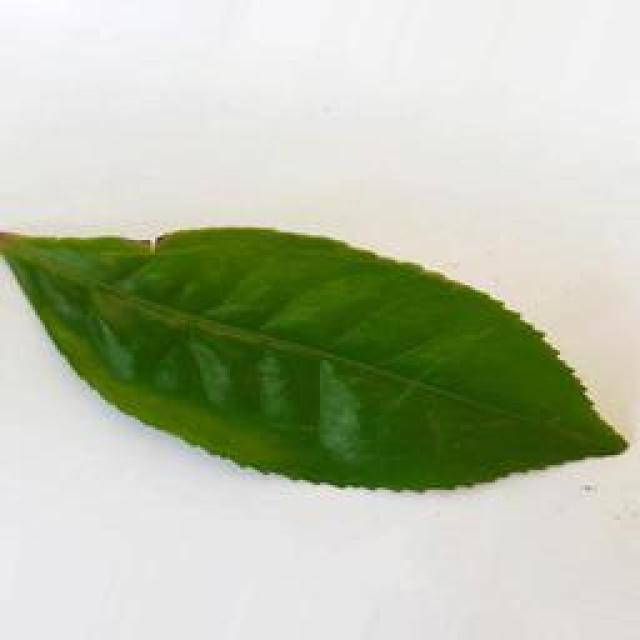Healthy: (2, 200, 640, 474)
